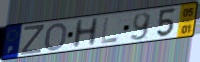5: (157, 6, 178, 39)
9: (129, 12, 154, 42)
H: (71, 16, 100, 50)
L: (100, 16, 119, 46)
O: (43, 21, 69, 52)
Z: (19, 24, 45, 57)
